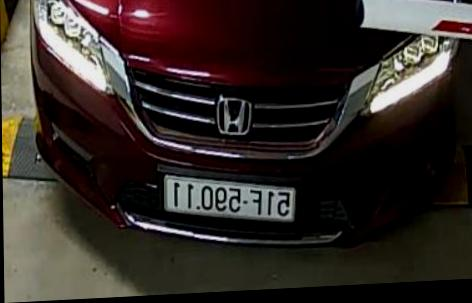License_Plate: (151, 158, 312, 233)
